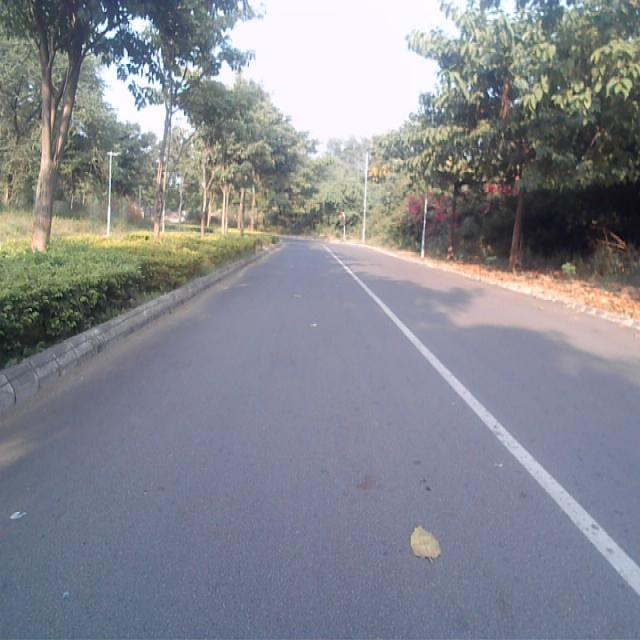lane: (1, 244, 640, 640)
